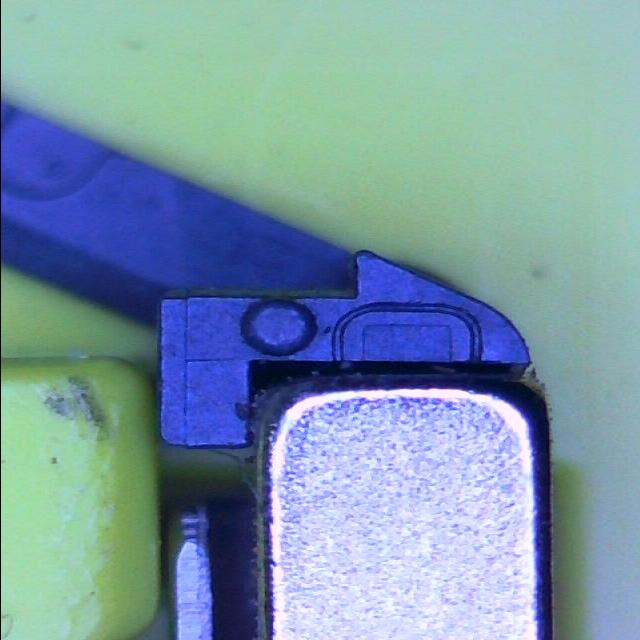noResin: (330, 301, 484, 368)
